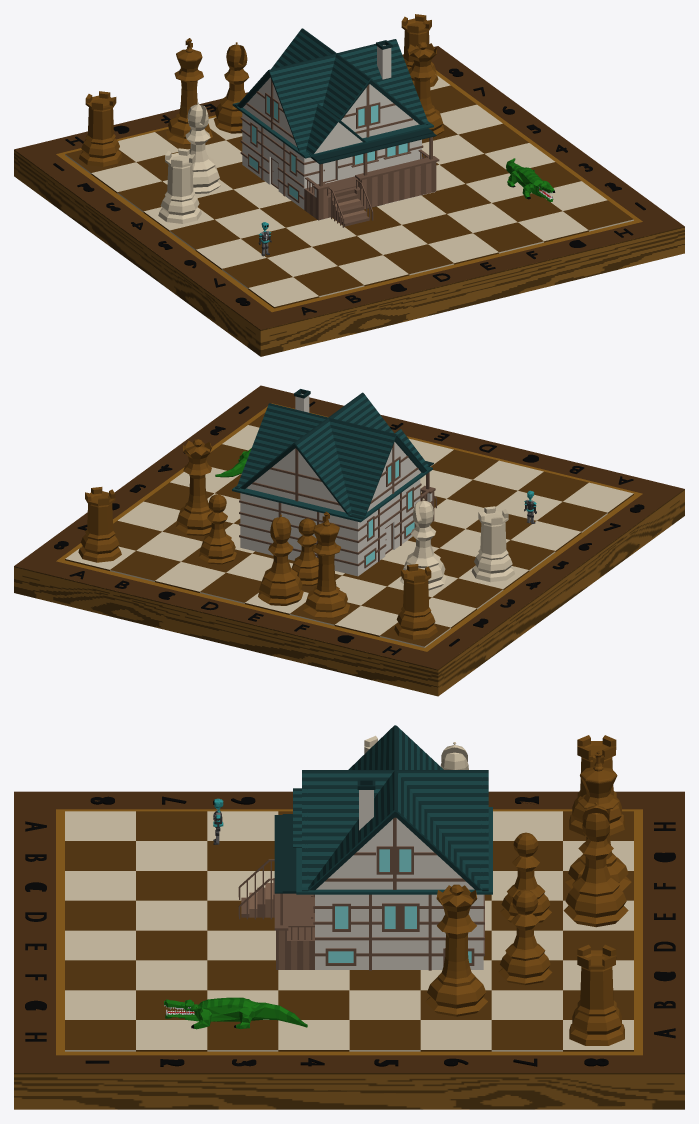
3 views of the same model, one above another, from view 1: azimuth 30°, elevation 25°; view 2: azimuth 150°, elevation 25°; view 3: azimuth 270°, elevation 25° (orthographic). The views are drawn at different scales.
Parts seen in each view (by area): view 1: Cube.002, Cube.793, ANIMAL_COCODRILO; view 2: Cube.002, Cube.793; view 3: Cube.002, Cube.793, ANIMAL_COCODRILO.
Boxes of the visible parts, box(x1,y1,x2,y2) form: Cube.002: box(14, 14, 684, 356); Cube.793: box(232, 28, 439, 227); ANIMAL_COCODRILO: box(506, 158, 555, 202); Cube.002: box(14, 385, 684, 696); Cube.793: box(232, 389, 436, 576); Cube.002: box(14, 735, 684, 1109); Cube.793: box(238, 725, 492, 970); ANIMAL_COCODRILO: box(164, 997, 307, 1029).
Bounding box in the file's own units: 3981 × 1484 × 4012.
Materials: 28 (3 with a texture image).
